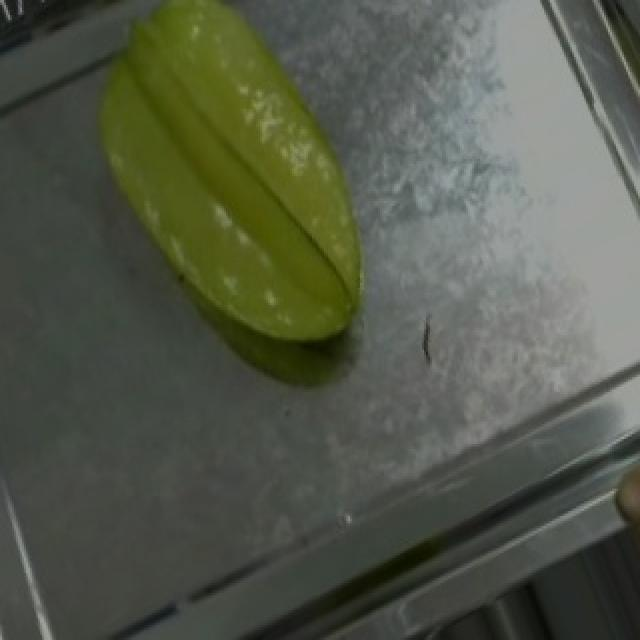fruit: (40, 0, 414, 327)
